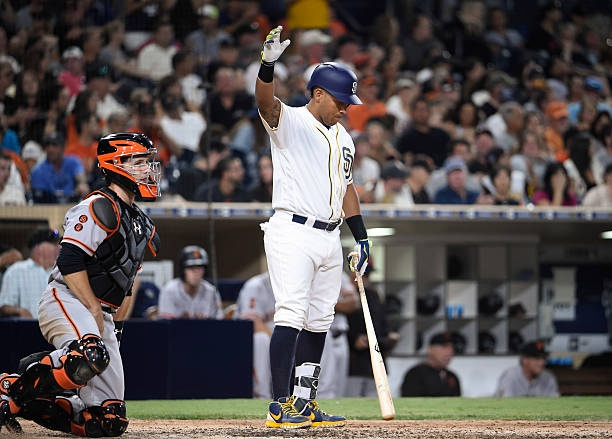bita: (349, 253, 398, 417)
